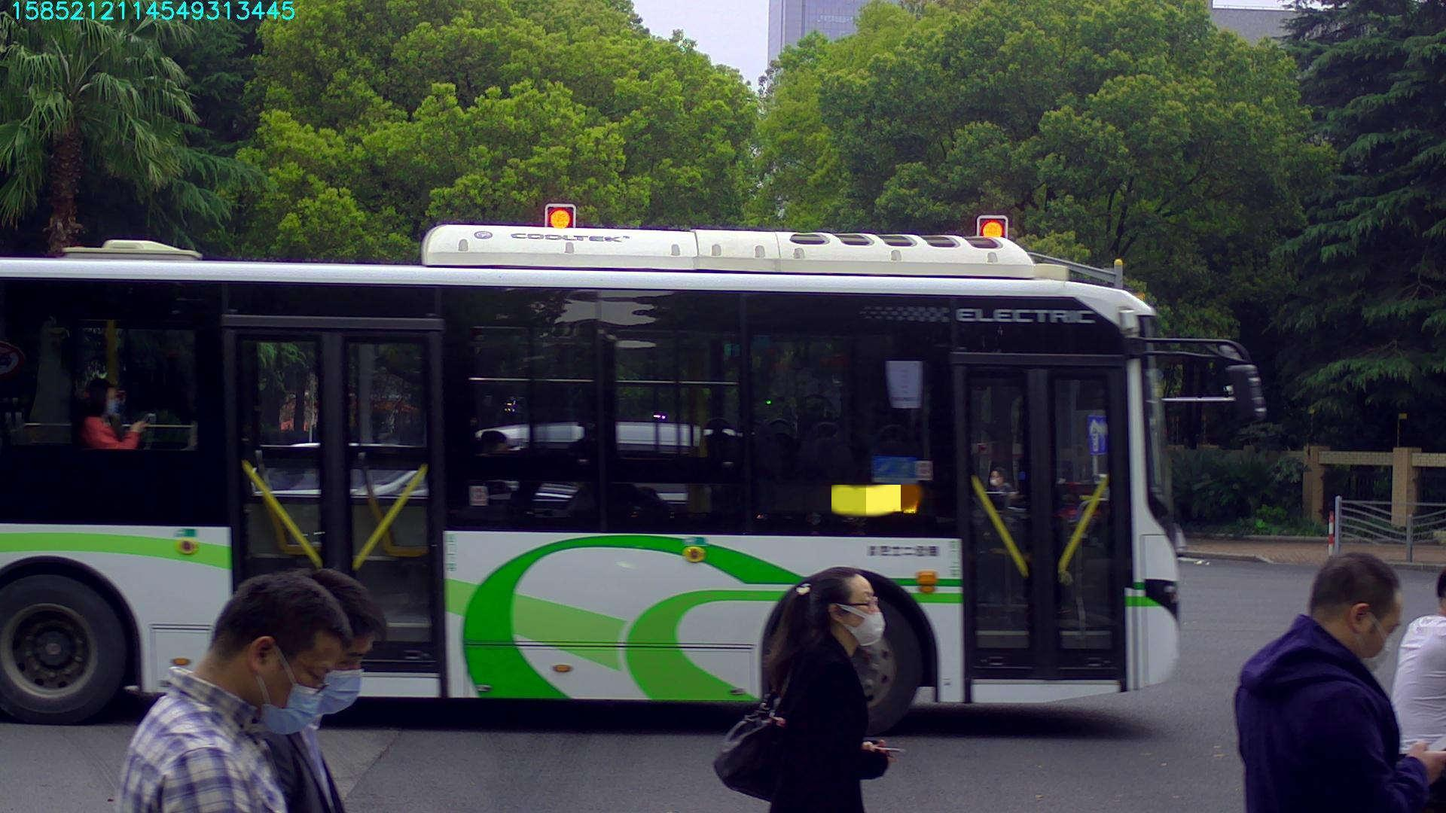red: (977, 217, 1006, 239), (547, 206, 573, 227)
